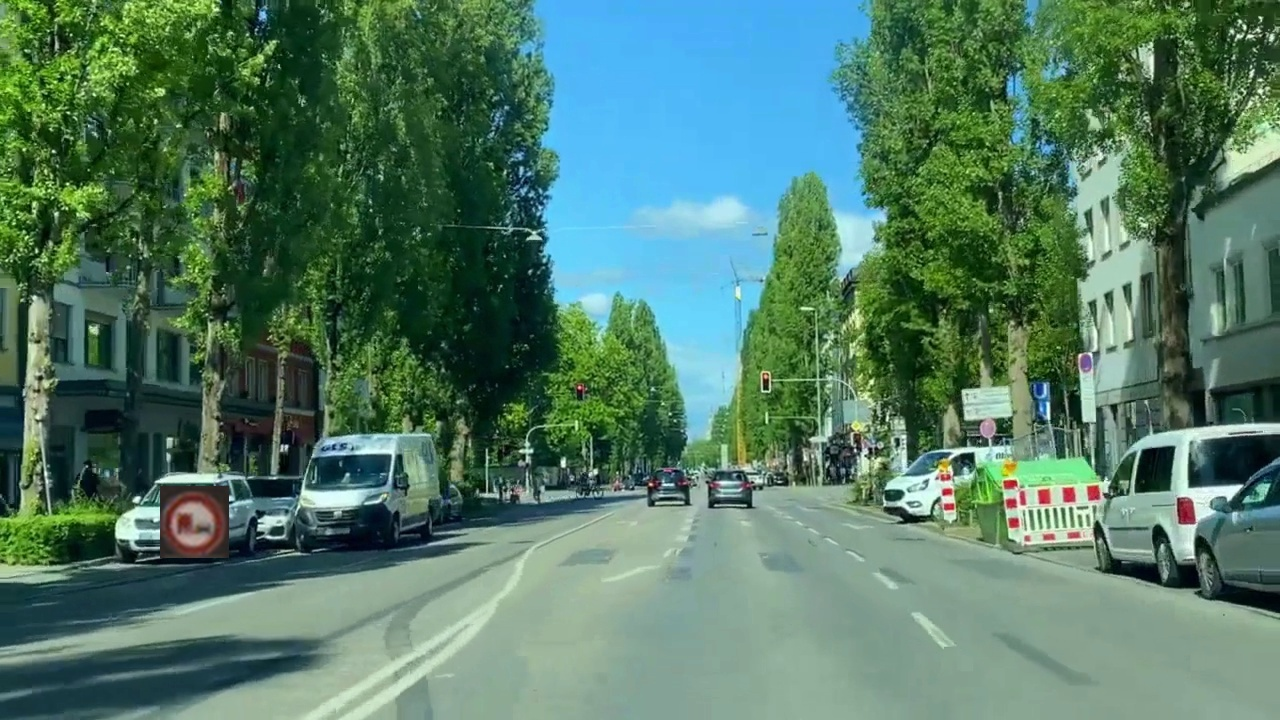No pass >3.5t: (160, 486, 229, 558)
